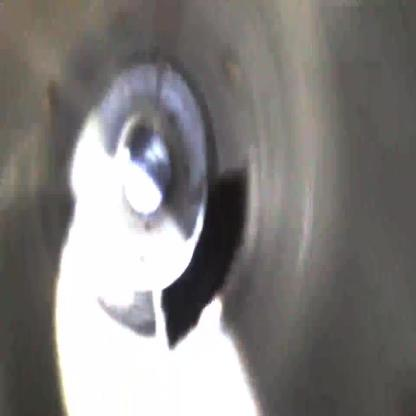Crack2: (156, 161, 251, 353)
